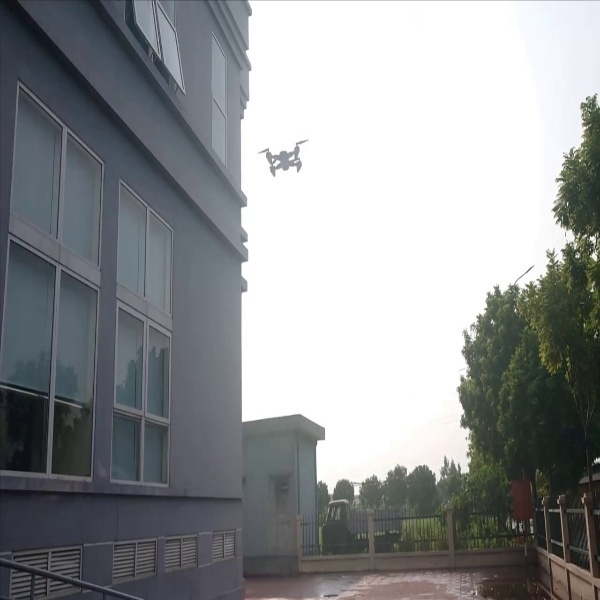drone: (253, 136, 310, 177)
